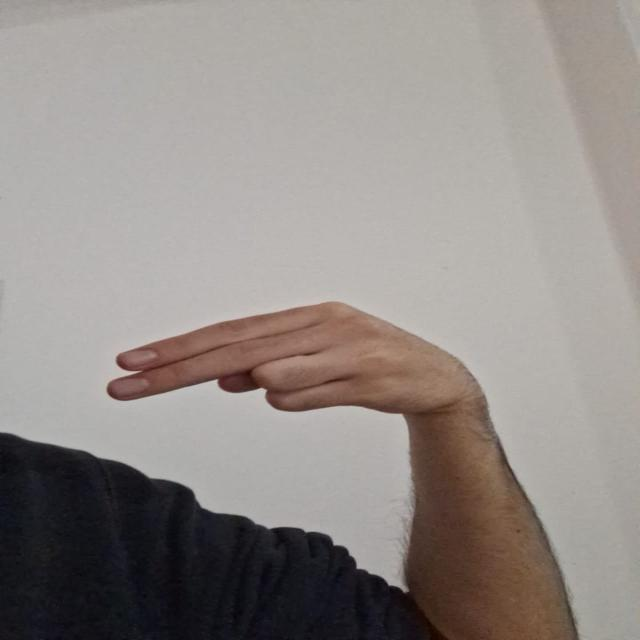N: (95, 293, 501, 420)
